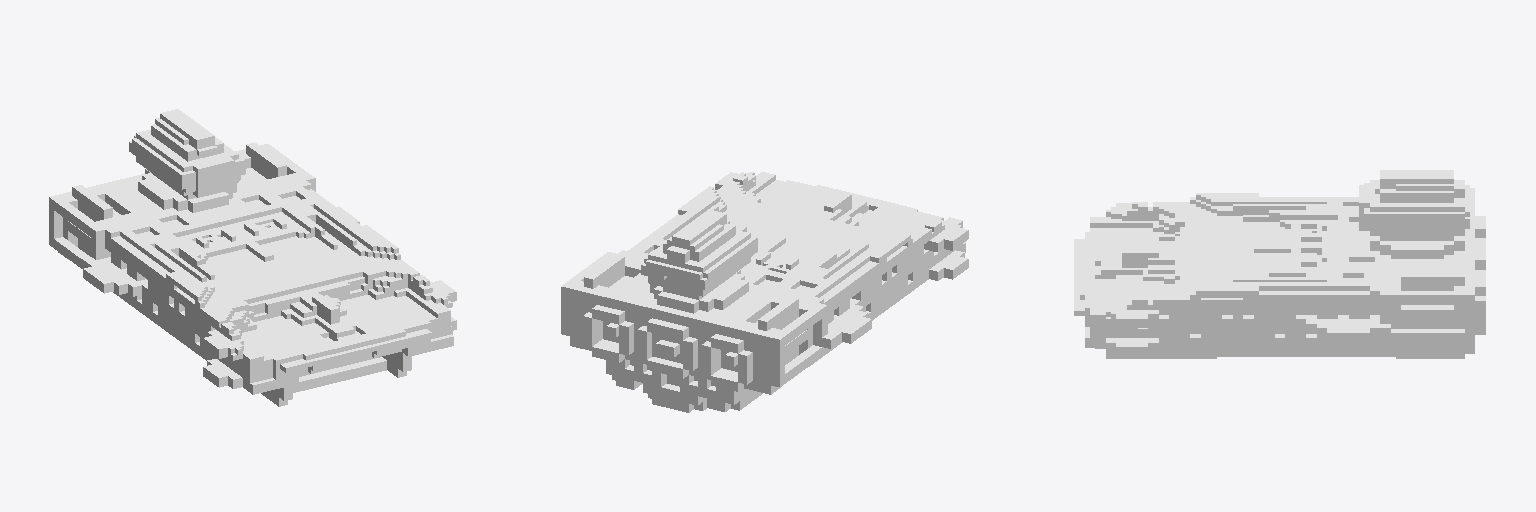
The model's file is Frigate4HP.obj.
3 views of the same model, side by side, from view 1: azimuth 30°, elevation 25°; view 2: azimuth 150°, elevation 25°; view 3: azimuth 270°, elevation 25° (orthographic).
Visible parts, largest first — view 1: Frigate4HP; view 2: Frigate4HP; view 3: Frigate4HP.
Boxes of the visible parts, x1=… form: Frigate4HP: x1=49, y1=109, x2=456, y2=406; Frigate4HP: x1=561, y1=172, x2=968, y2=412; Frigate4HP: x1=1074, y1=170, x2=1485, y2=358.
Size of the model in its own units: 56 by 34 by 78.